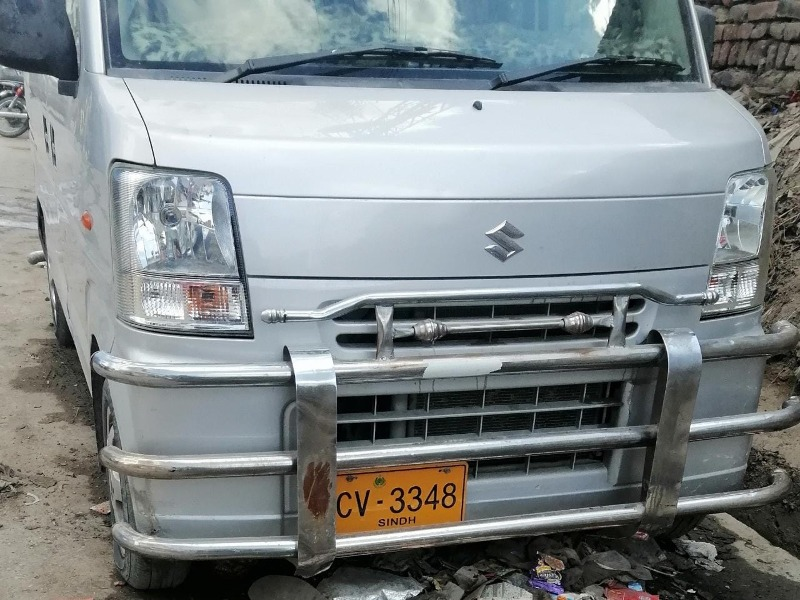License Plate: (331, 467, 473, 541)
